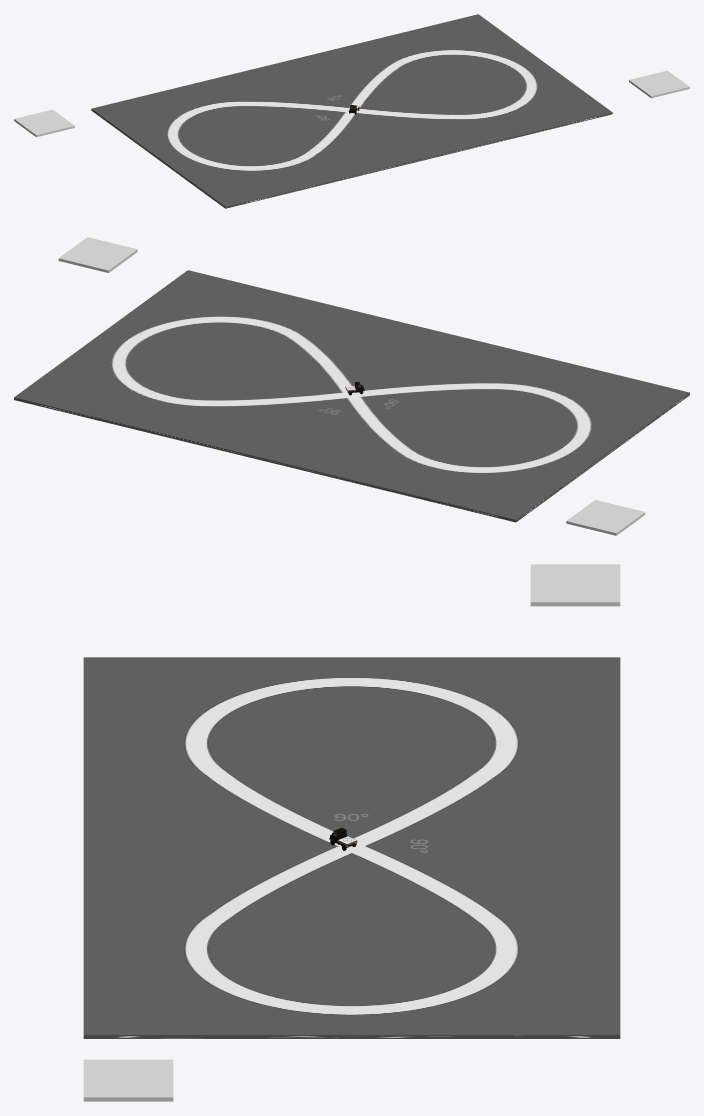
Rendered from task1.FBX.
3 renders of one model, top to bottom at view 1: azimuth 30°, elevation 25°; view 2: azimuth 150°, elevation 25°; view 3: azimuth 270°, elevation 25°, orthographic. The views are drawn at different scales.
Parts seen in each view (by area): view 1: Box001, Box005, Box004; view 2: Box001, Box004, Box005; view 3: Box001, Box004, Box005.
Boxes of the visible parts, bbox=[...] form: Box001: bbox=[91, 14, 612, 208]; Box005: bbox=[14, 109, 74, 137]; Box004: bbox=[629, 70, 689, 98]; Box001: bbox=[14, 270, 689, 522]; Box004: bbox=[58, 237, 137, 272]; Box005: bbox=[566, 500, 645, 535]; Box001: bbox=[83, 657, 620, 1038]; Box004: bbox=[83, 1059, 173, 1101]; Box005: bbox=[530, 564, 620, 606].
Bounding box in the file's own units: 5512 × 103 × 2362.
